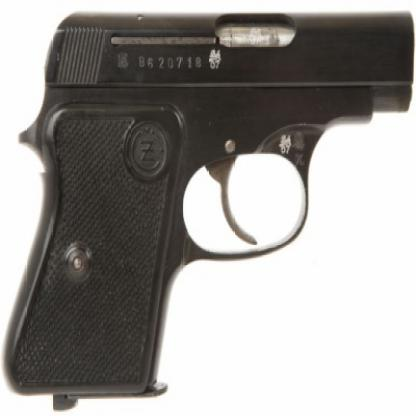Guns: (0, 4, 415, 415)
